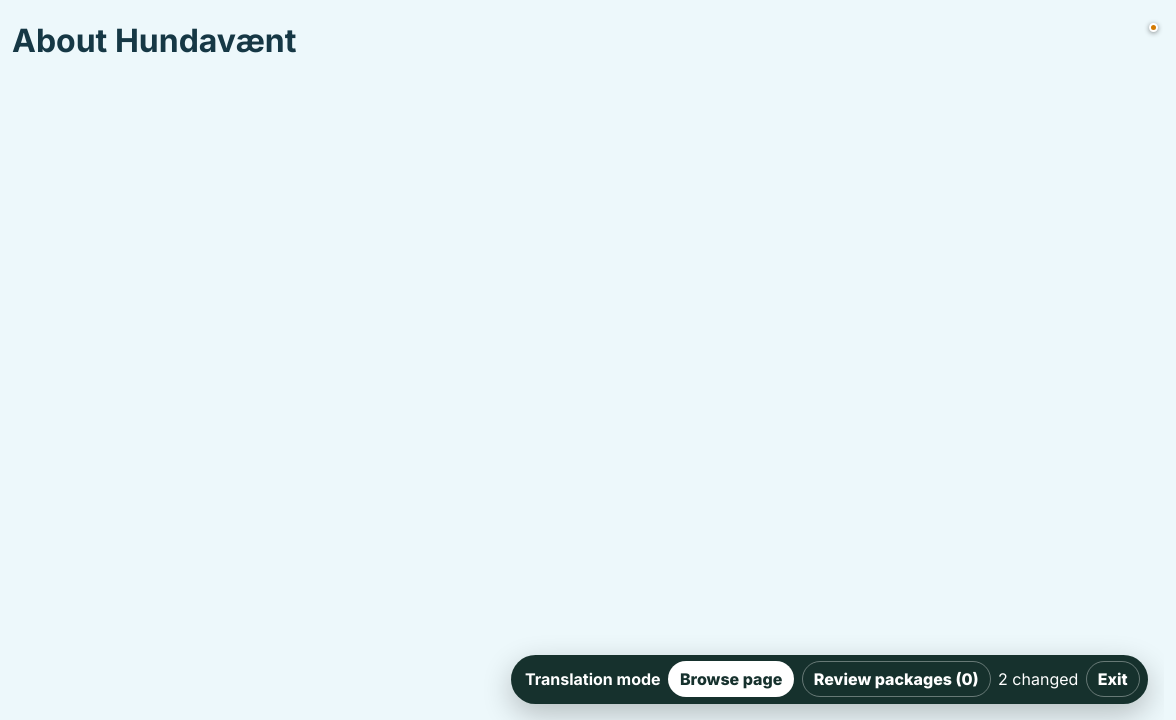
Test: In-context translation mode › keeps submit disabled while any entry in the page package is incomplete
The image size is (1176, 720).
Click the button named "Edit translation: about.title": x=1152, y=27 [1140,14,1164,40]
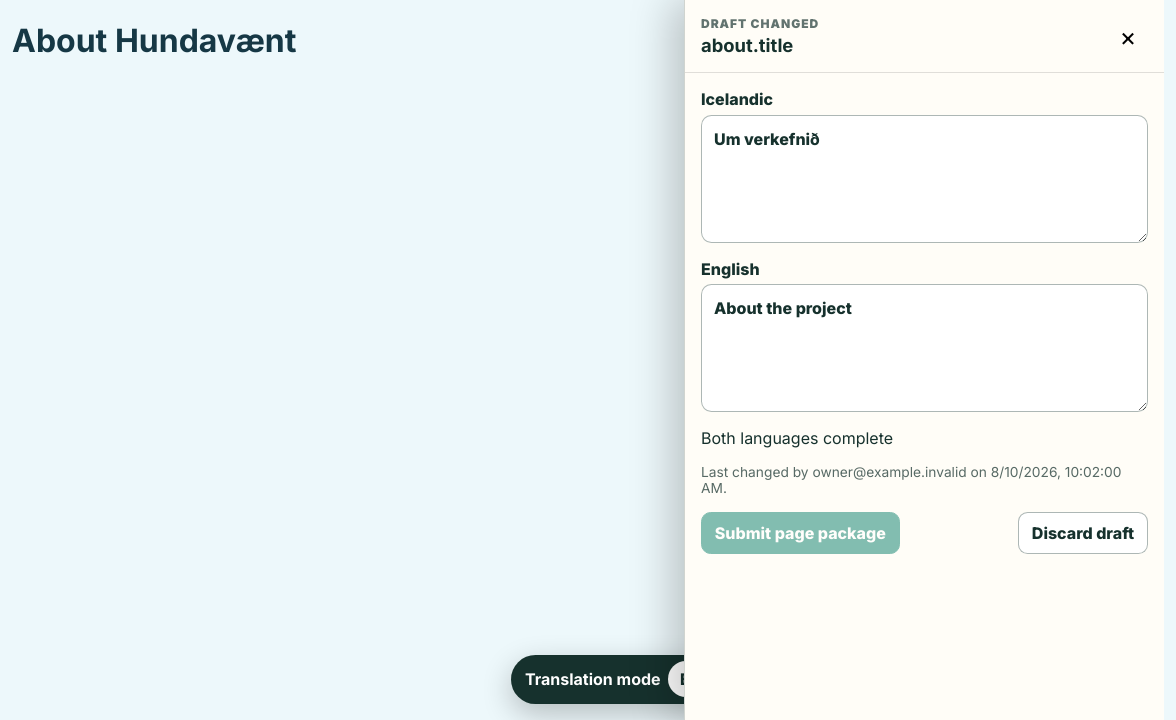
Expected: the button "Submit page package" is disabled, [701,512,900,554]
